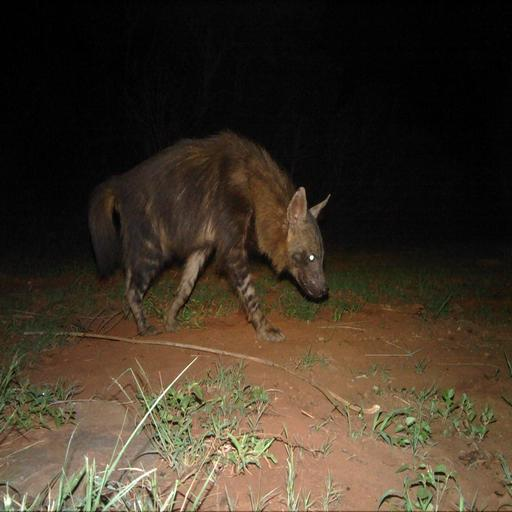Hyena: (85, 133, 343, 343)
